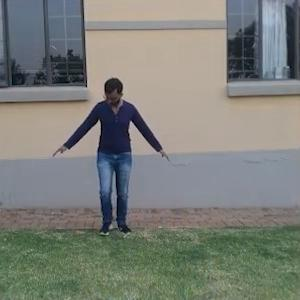land: (51, 55, 185, 255)
